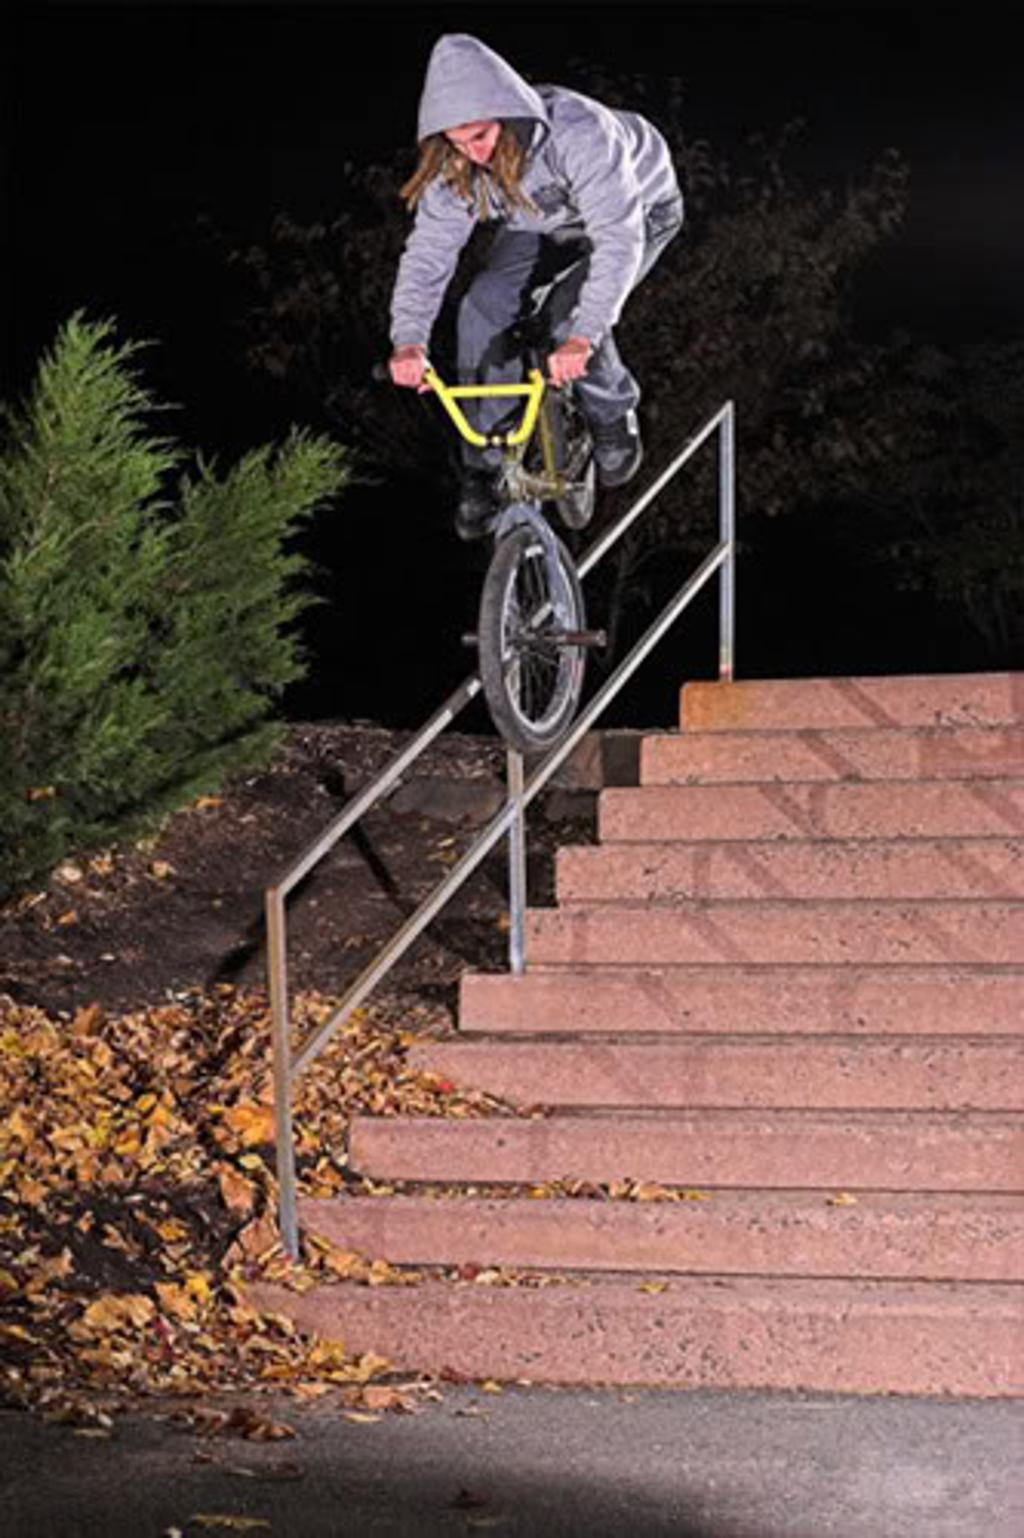face: (444, 117, 505, 168)
